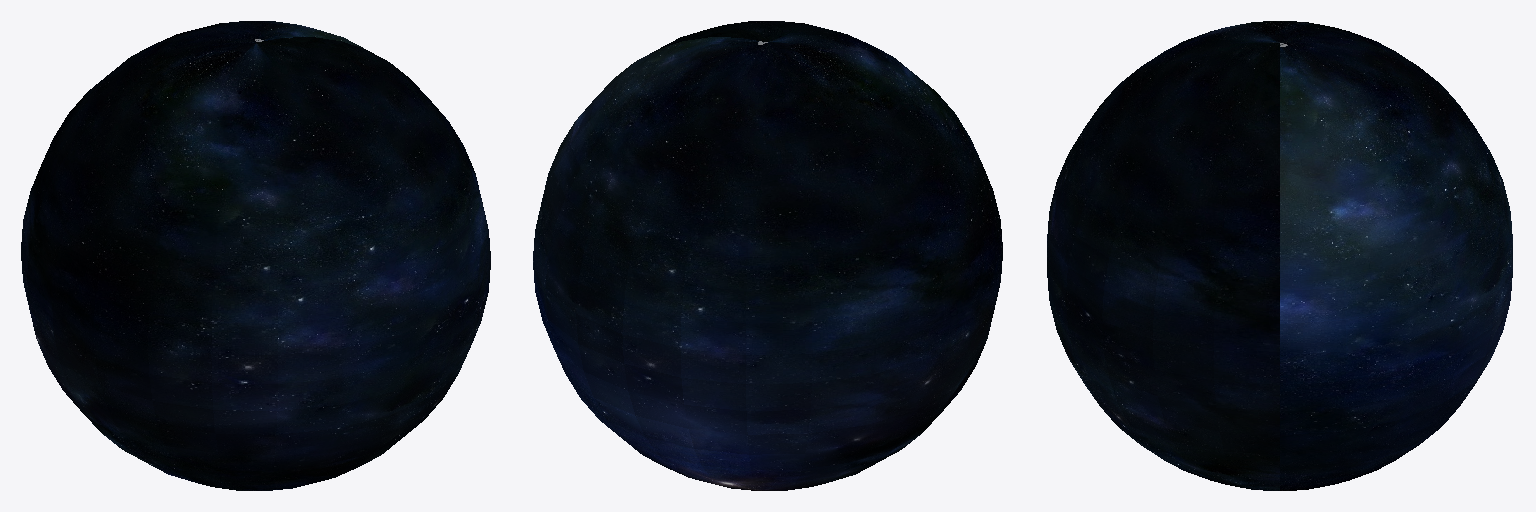
3 renders of one model, left to right at view 1: azimuth 30°, elevation 25°; view 2: azimuth 150°, elevation 25°; view 3: azimuth 270°, elevation 25°, orthographic.
Visible parts, largest first — view 1: Space; view 2: Space; view 3: Space.
Part boxes in pixels (x1,y1,x2,y2): Space: (21,21,490,490); Space: (533,21,1002,490); Space: (1047,21,1512,490).
Size of the model in its own units: 2 by 2 by 1.98.
Materials: 1 (1 with a texture image).